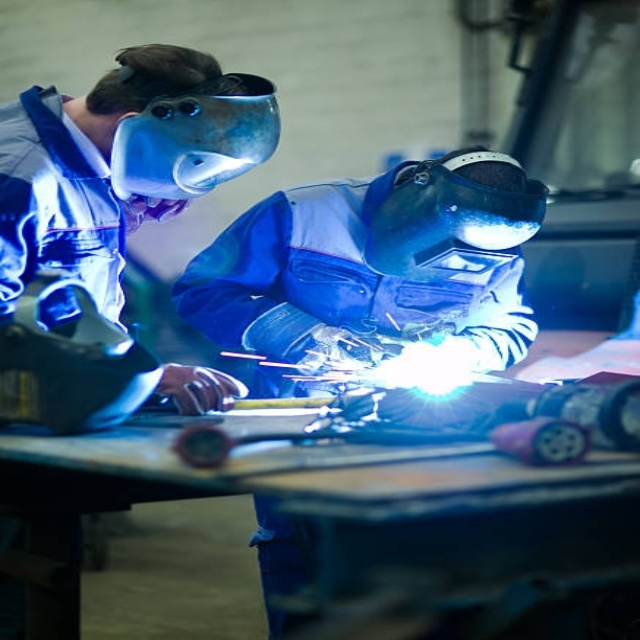Guantes: (242, 294, 384, 382), (160, 358, 255, 417)
